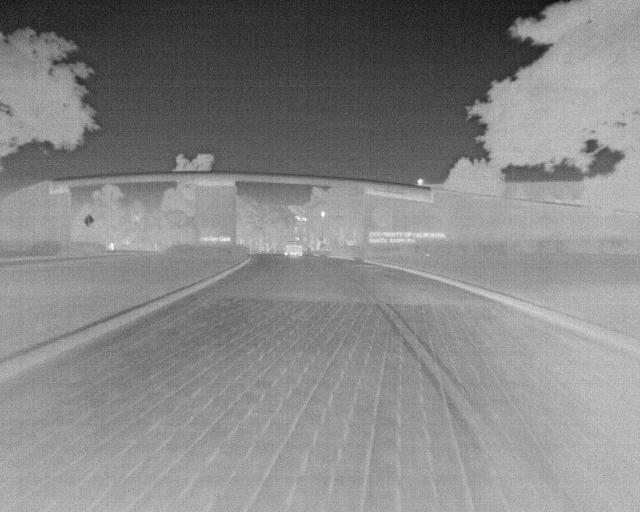car: (282, 239, 305, 257)
